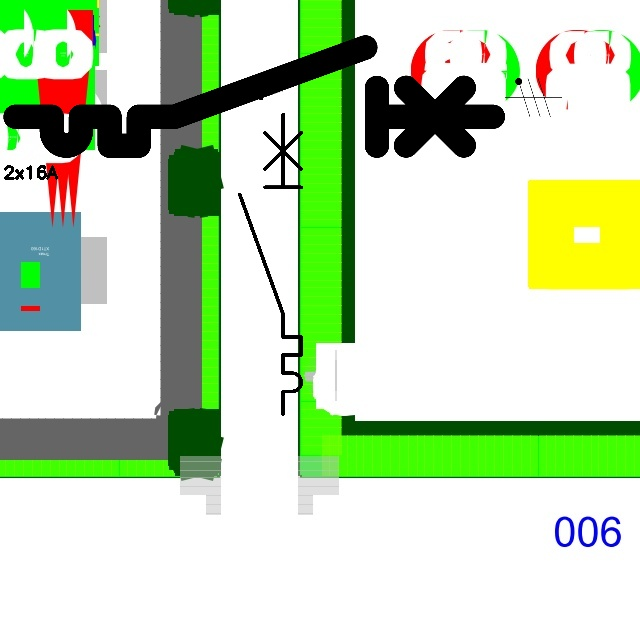interruptor_termomagnetico: (3, 35, 505, 158), (232, 106, 309, 421)
